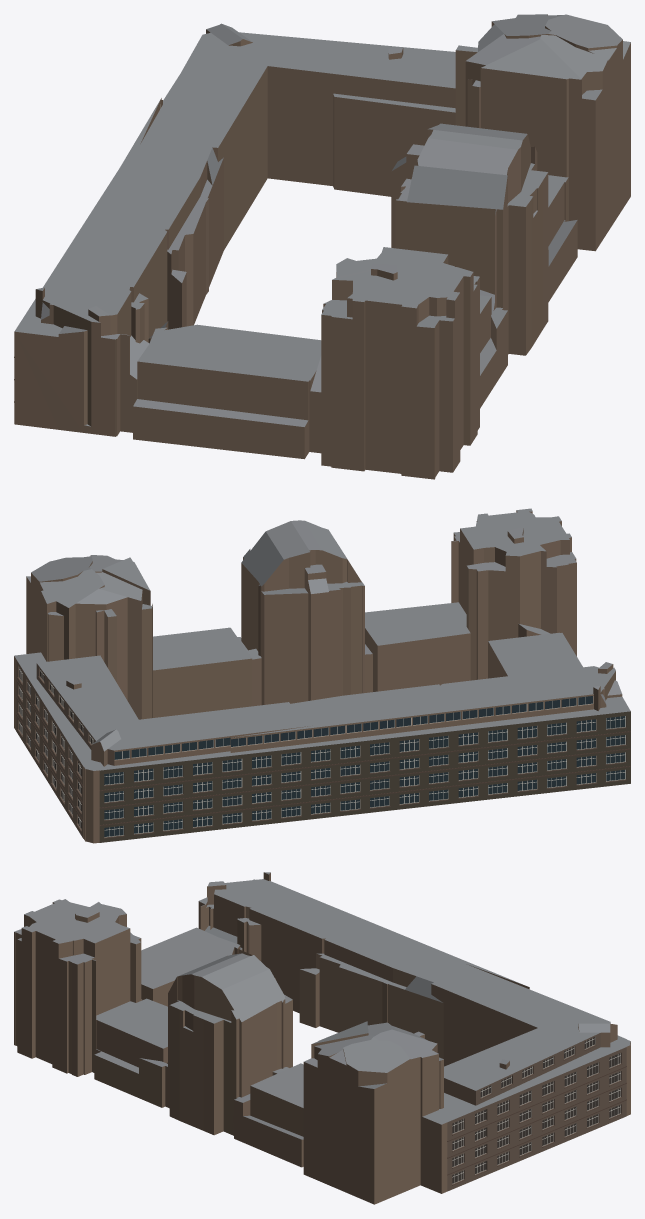
Rendered from recipe-large-louise-wentstraat-230-165821.glb.
3 renders of one model, top to bottom at view 1: azimuth 30°, elevation 25°; view 2: azimuth 150°, elevation 25°; view 3: azimuth 270°, elevation 25°, orthographic. The views are drawn at different scales.
Parts seen in each view (by area): view 1: louise-wentstraat-230-165821; view 2: louise-wentstraat-230-165821; view 3: louise-wentstraat-230-165821.
Part boxes in pixels (bbox=[...]): louise-wentstraat-230-165821: bbox=[14, 14, 630, 479]; louise-wentstraat-230-165821: bbox=[14, 508, 630, 843]; louise-wentstraat-230-165821: bbox=[14, 872, 630, 1204].
Size of the model in its own units: 101 by 26.98 by 103.
